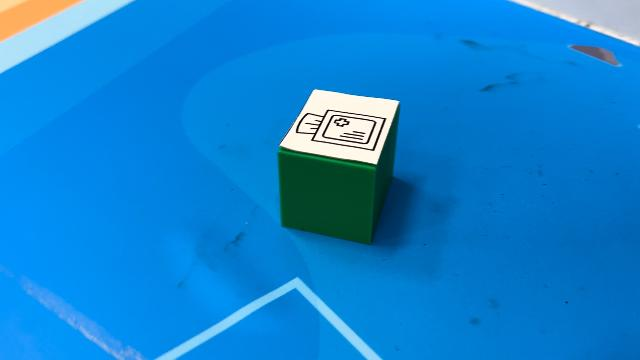napkin: (284, 89, 398, 245)
